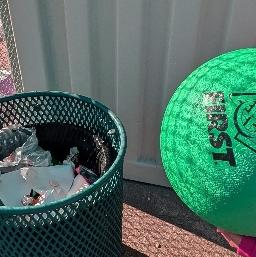algae: (154, 50, 256, 239)
